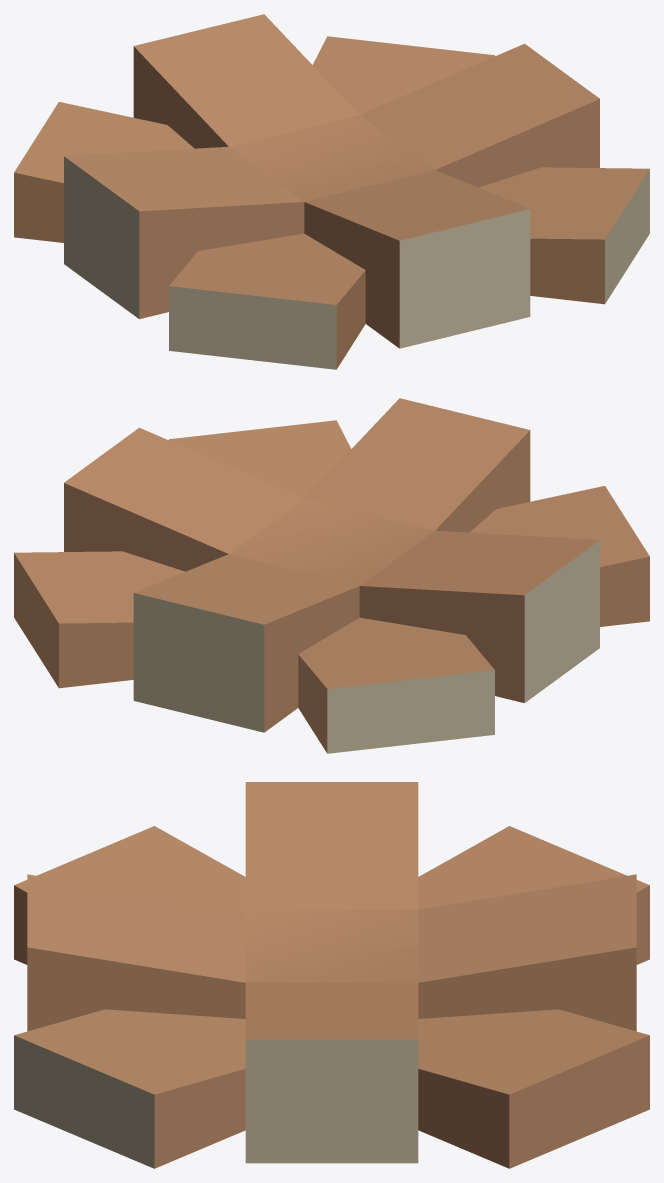
Rendered from cc0-campfire-logs-lod1.glb.
3 views of the same model, one above another, from view 1: azimuth 30°, elevation 25°; view 2: azimuth 150°, elevation 25°; view 3: azimuth 270°, elevation 25° (orthographic). The views are drawn at different scales.
Parts seen in each view (by area): view 1: part_0; view 2: part_0; view 3: part_0.
Boxes of the visible parts, box(x1,y1,x2,y2) form: part_0: box(14, 14, 649, 369); part_0: box(14, 398, 649, 753); part_0: box(14, 782, 649, 1168).
Size of the model in its own units: 0.2919 by 0.0626 by 0.2919.
